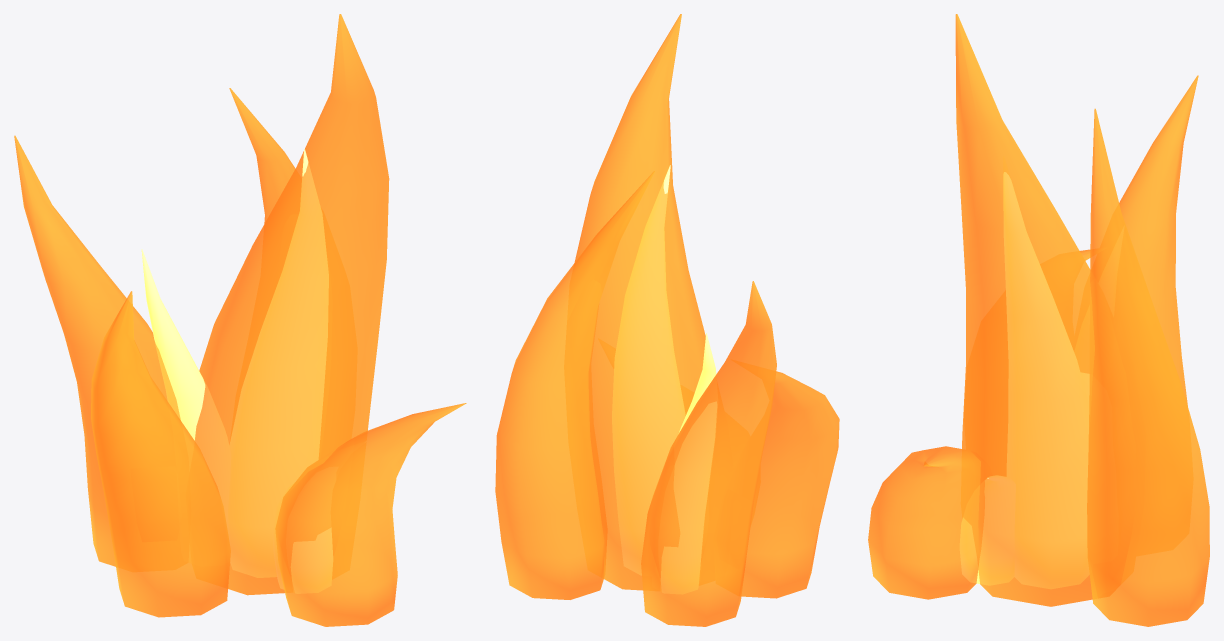
The model's file is flame.glb.
The picture shows the model from 3 angles, left to right: view 1: azimuth 30°, elevation 25°; view 2: azimuth 150°, elevation 25°; view 3: azimuth 270°, elevation 25°; orthographic projection. The views are drawn at different scales.
Parts seen in each view (by area): view 1: FlameOuter, FlameInner; view 2: FlameOuter, FlameInner; view 3: FlameOuter, FlameInner.
Part boxes in pixels (x1=…): FlameOuter: x1=14, y1=14, x2=466, y2=626; FlameInner: x1=141, y1=149, x2=332, y2=593; FlameOuter: x1=495, y1=14, x2=839, y2=626; FlameInner: x1=612, y1=165, x2=717, y2=594; FlameOuter: x1=868, y1=14, x2=1209, y2=626; FlameInner: x1=960, y1=172, x2=1089, y2=588.
Size of the model in its own units: 0.3524 by 0.6071 by 0.3306.
